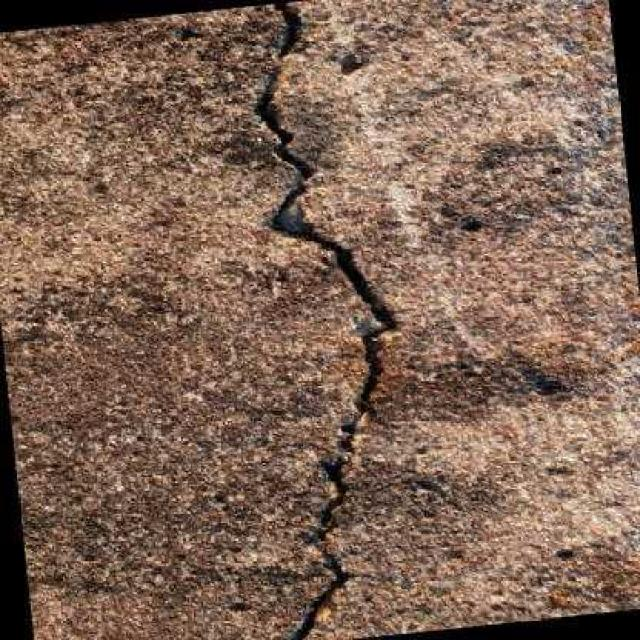D00: (252, 2, 395, 640)
